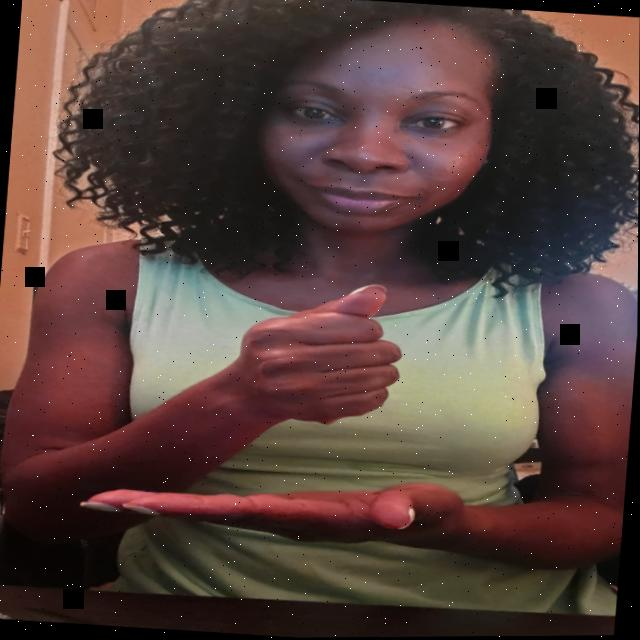Rock: (221, 272, 432, 441)
